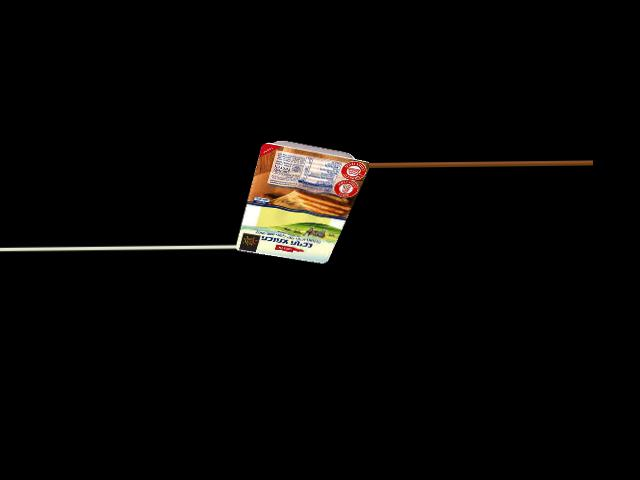cheese: (246, 142, 350, 263)
